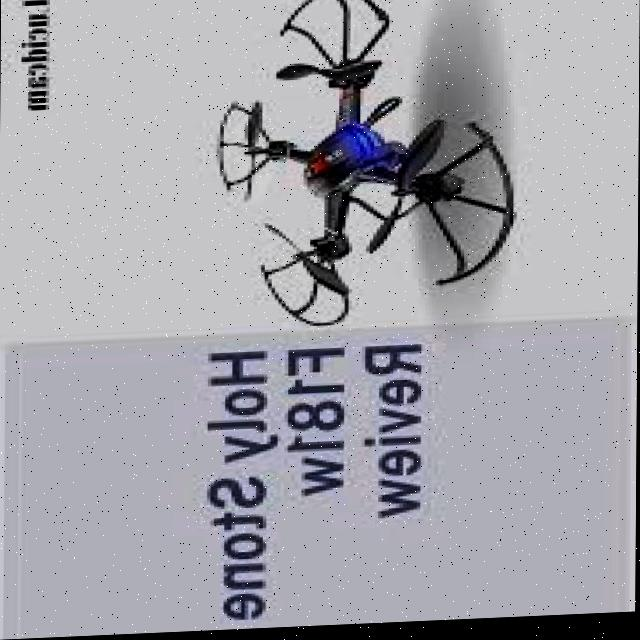drone: (204, 0, 518, 332)
